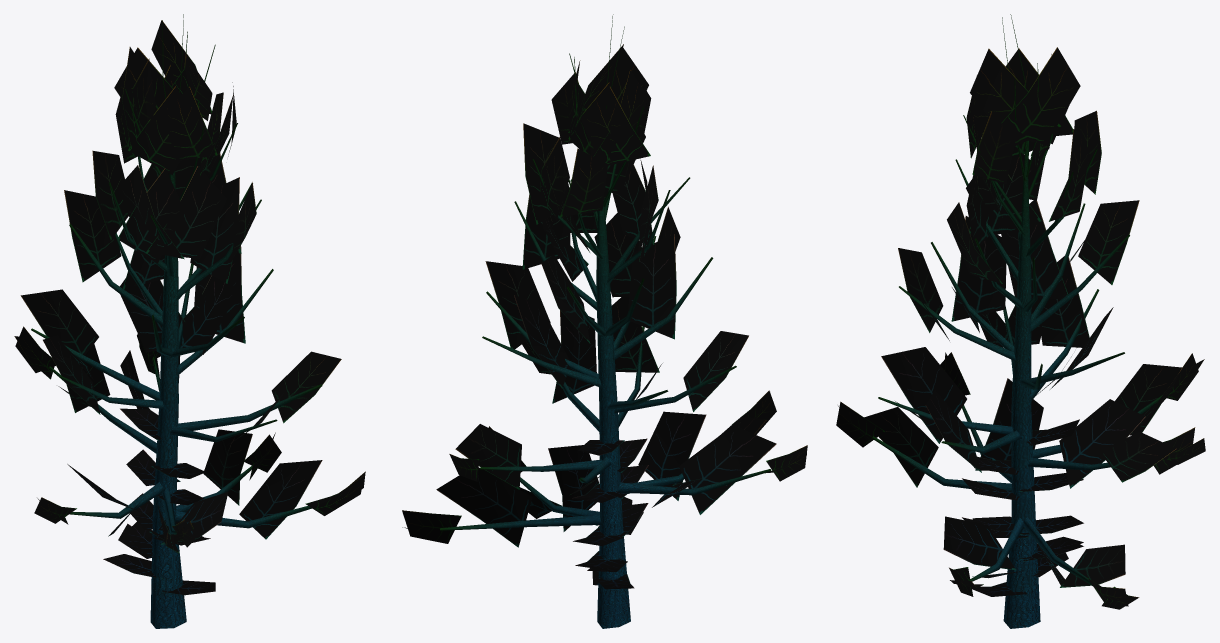
Rendered from Picea_Abies_D.glb.
The picture shows the model from 3 angles, left to right: view 1: azimuth 30°, elevation 25°; view 2: azimuth 150°, elevation 25°; view 3: azimuth 270°, elevation 25°; orthographic projection. The views are drawn at different scales.
Visible parts, largest first — view 1: D_LOD0; view 2: D_LOD0; view 3: D_LOD0.
Boxes of the visible parts, x1=… form: D_LOD0: x1=14, y1=14, x2=365, y2=628; D_LOD0: x1=402, y1=14, x2=807, y2=628; D_LOD0: x1=836, y1=14, x2=1205, y2=628.
Size of what is drawn, in the model's own units: 9.68 by 16.7 by 9.18.
2 materials, 2 textured.
